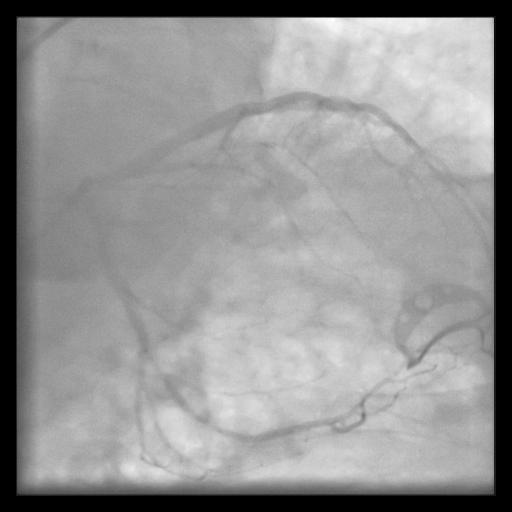Stenosis: (145, 349, 176, 399)
